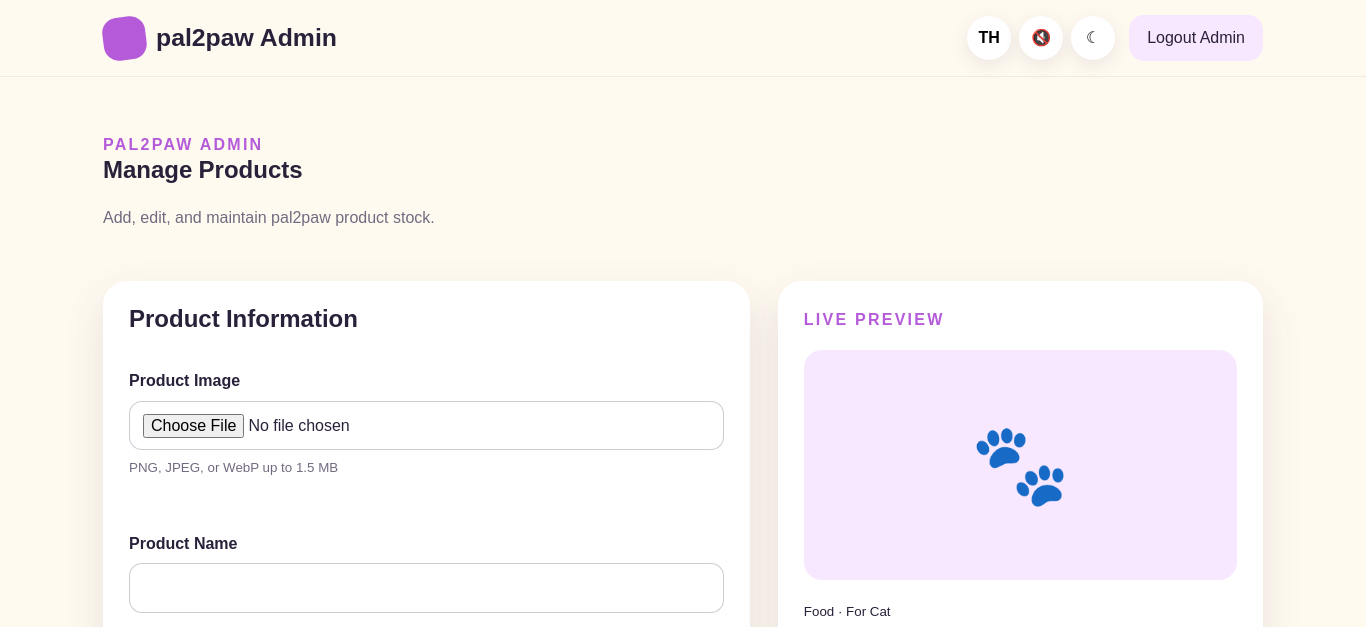
Test: keeps mounted generation protection active after the StrictMode effect cycle
In the field labelled "Product Name": (426, 588) x1=129 y1=563 x2=724 y2=613, type "Strict Product"
(page scrolled)
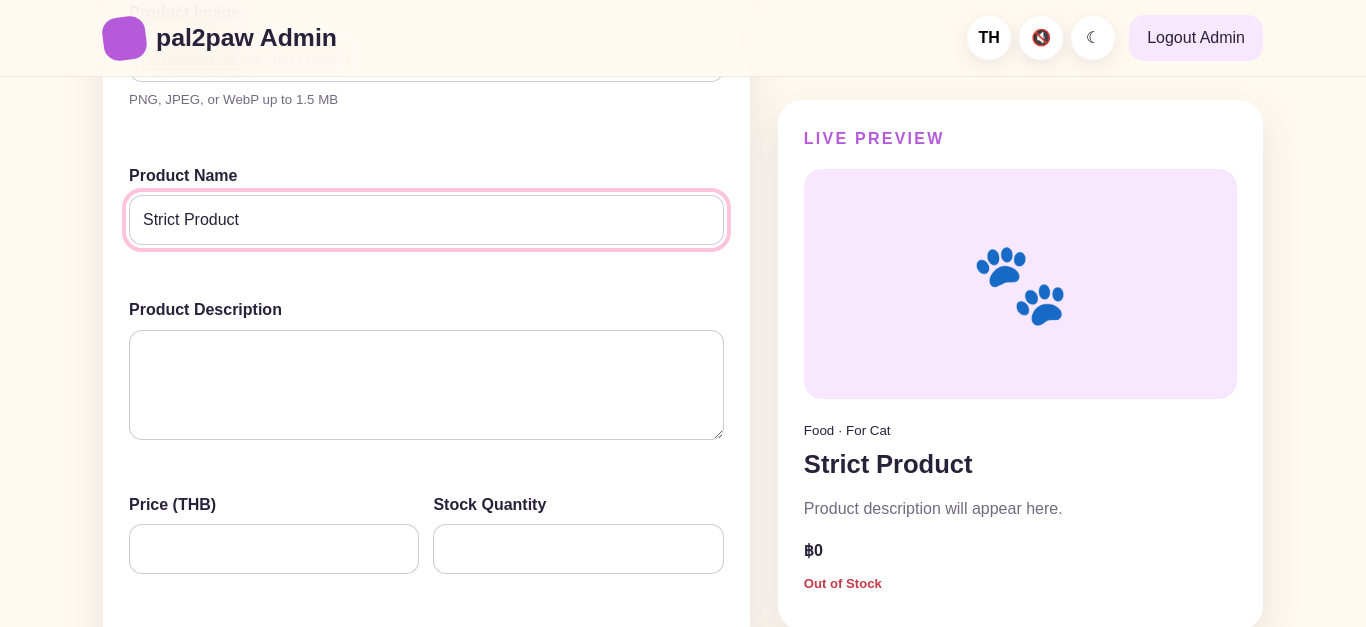
In the text box labelled "Product Description": (426, 385) x1=129 y1=330 x2=724 y2=440, type "Cloud soft"
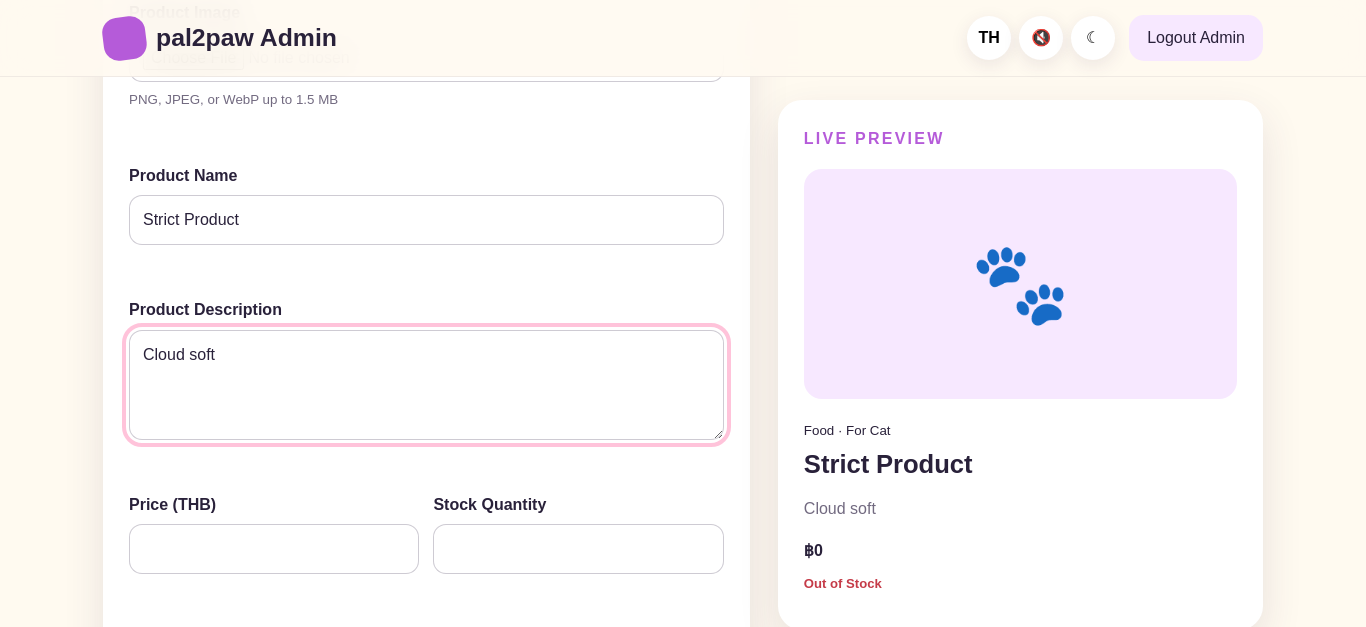
In the number field labelled "Price (THB)": (274, 549) x1=129 y1=524 x2=419 y2=574, type "250.5"
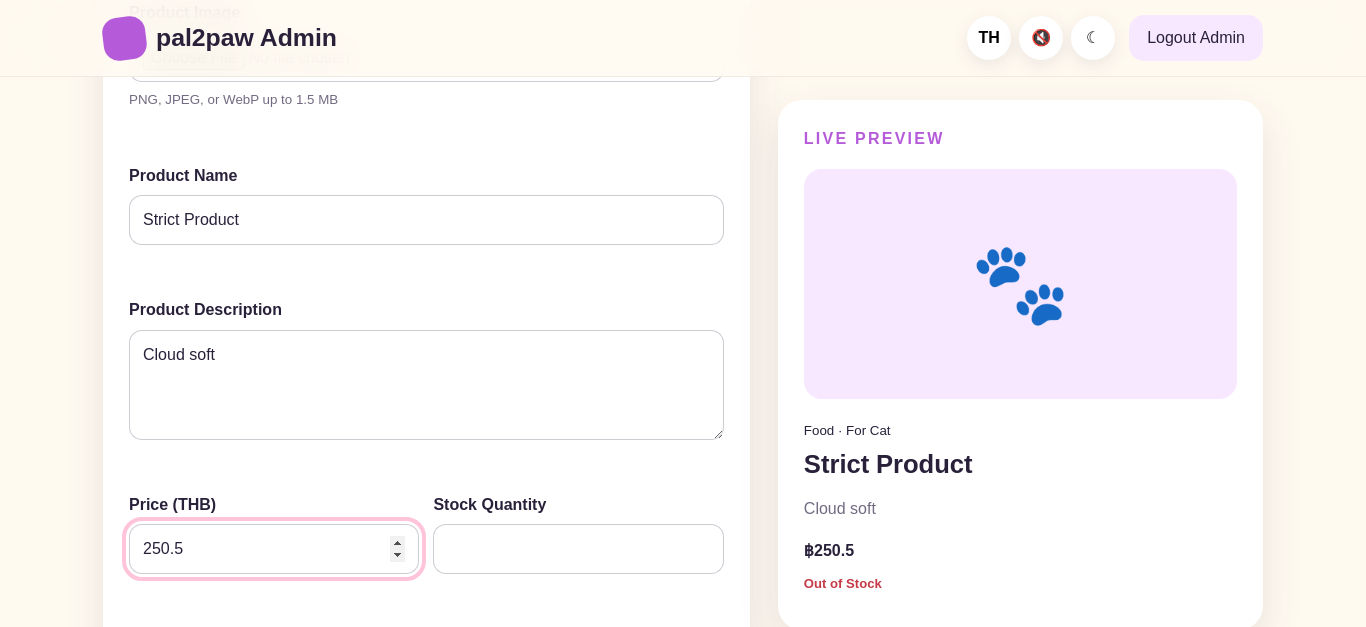
In the number field labelled "Stock Quantity": (579, 549) x1=433 y1=524 x2=724 y2=574, type "4"
(page scrolled)
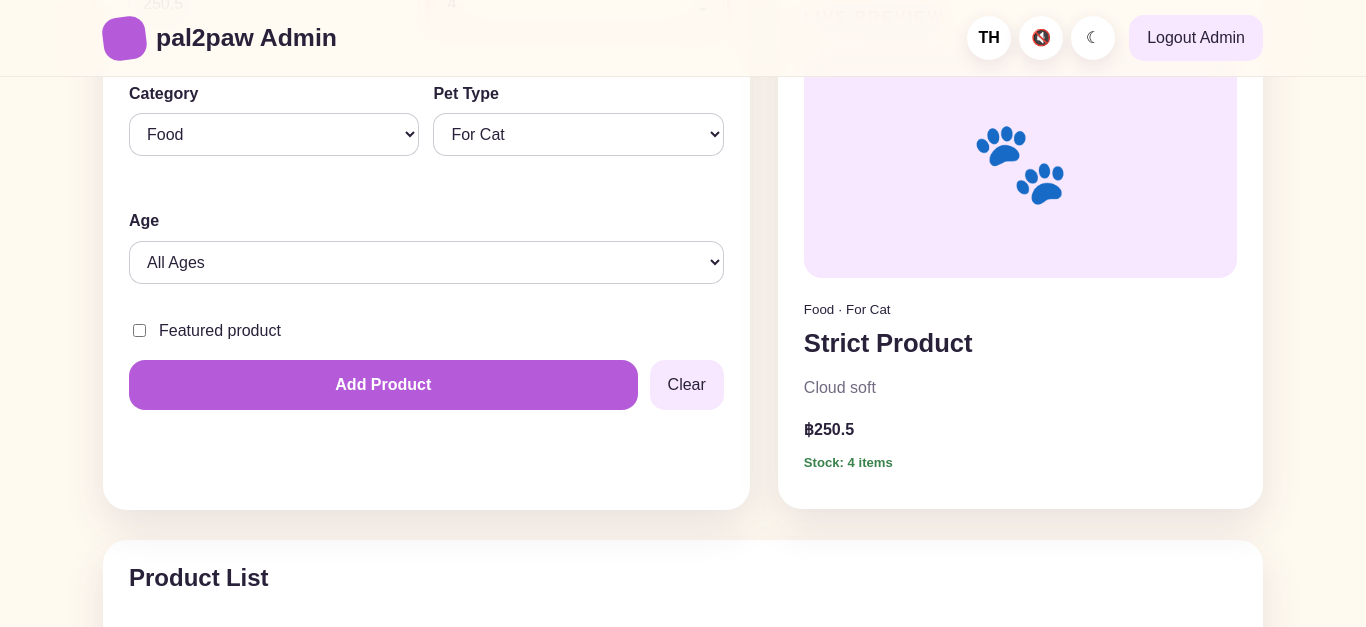
Click the button "Add Product": (383, 384) x1=129 y1=360 x2=638 y2=410
(page scrolled)
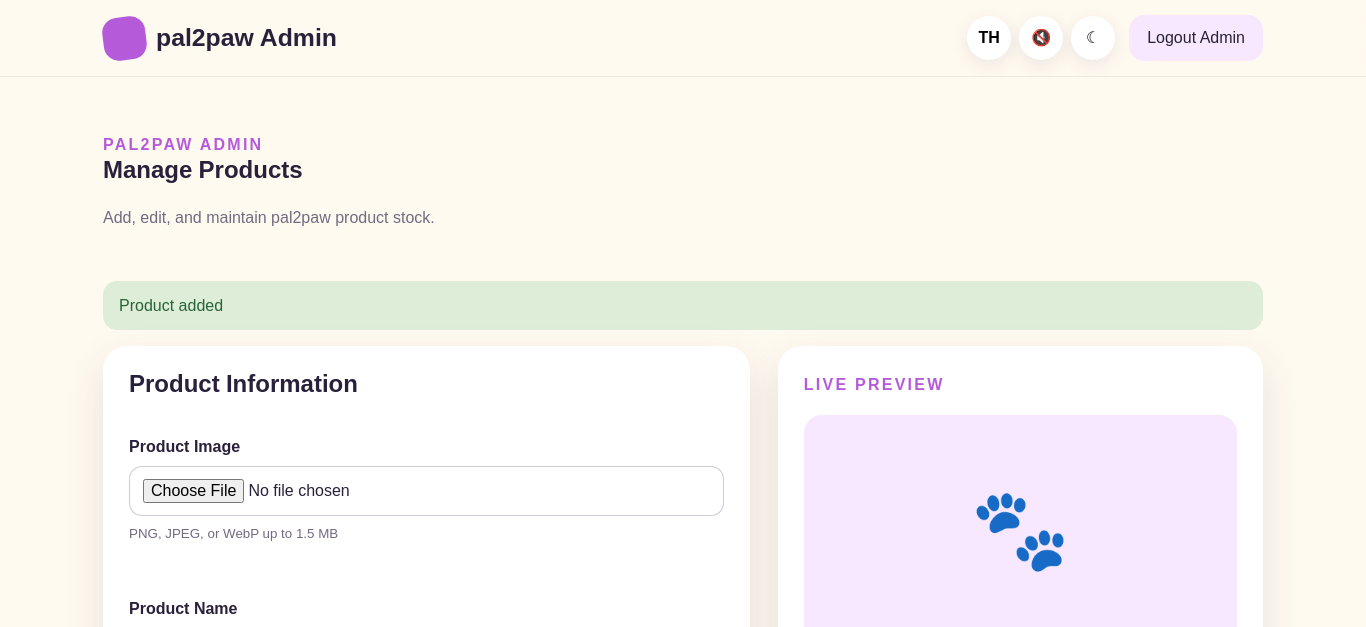
Expected: the message reads "Product added", x1=119 y1=297 x2=223 y2=314
